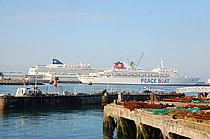Ship: (76, 62, 205, 89)
